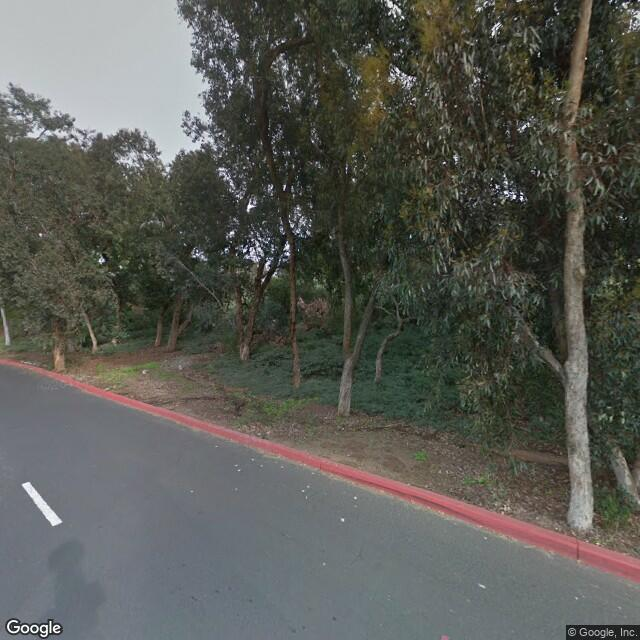litter: (497, 503, 513, 514), (189, 487, 200, 493), (142, 369, 150, 377), (340, 515, 347, 523), (477, 583, 487, 588), (178, 363, 184, 371), (442, 634, 450, 640), (350, 494, 358, 500), (232, 485, 240, 491), (305, 483, 314, 488), (304, 495, 312, 500), (480, 536, 490, 540), (251, 456, 257, 462), (323, 560, 328, 567), (280, 465, 287, 470), (214, 444, 221, 449), (302, 488, 307, 493), (260, 463, 264, 469), (236, 469, 243, 471)
